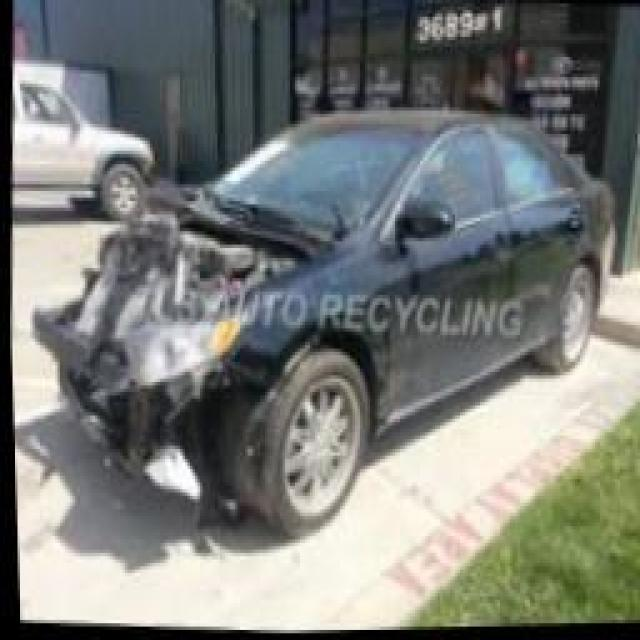Bonnet: (52, 179, 347, 343)
Bumper: (27, 309, 245, 536)
Fender: (203, 272, 342, 406)
